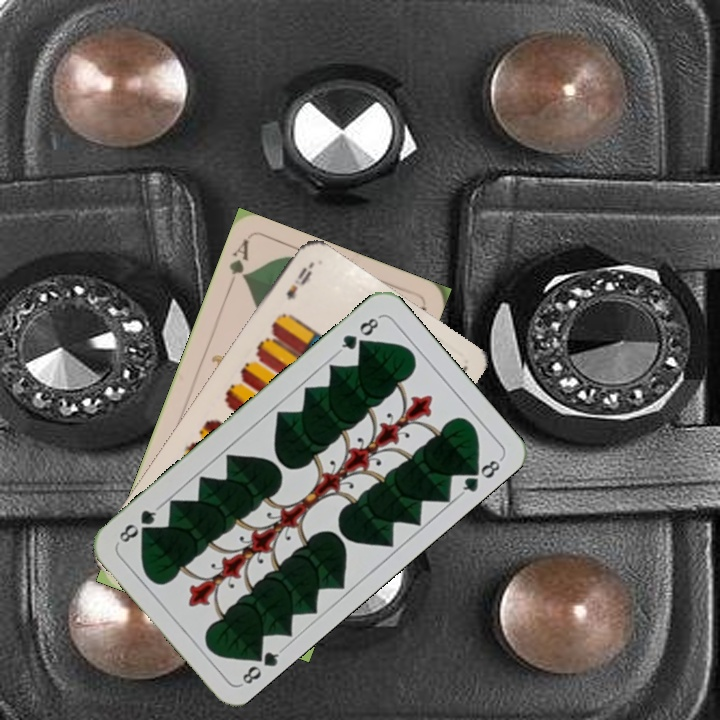E9: (282, 260, 315, 304)
G8: (237, 643, 286, 689), (334, 312, 383, 356)
GA: (223, 236, 251, 294)
